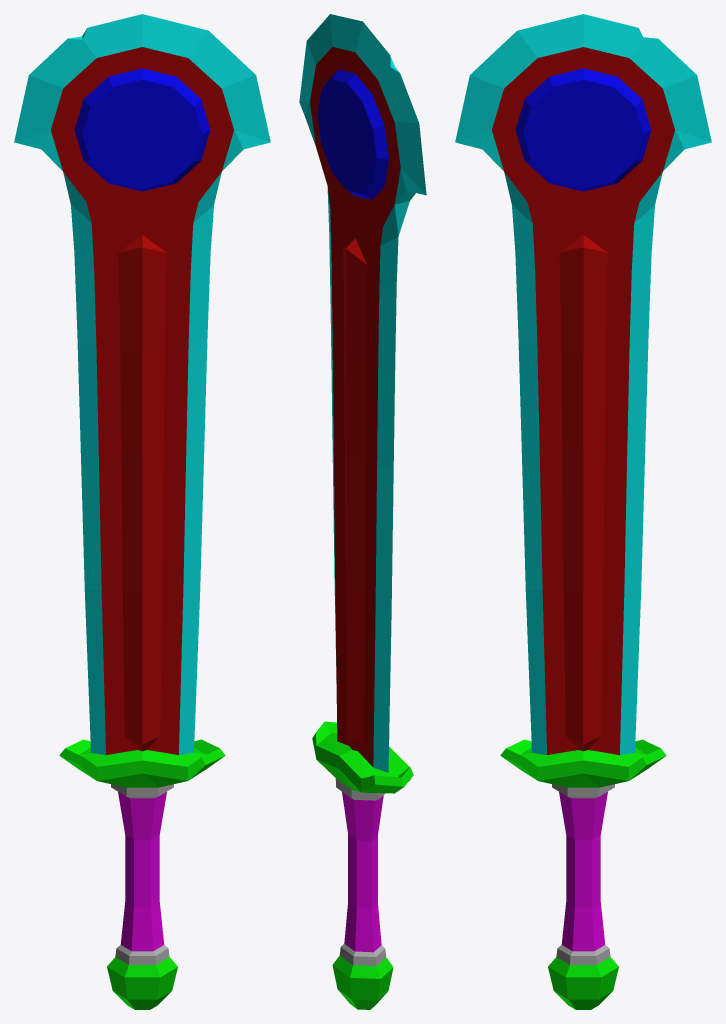
File: Greatsword_Legendary_Magistone.fbx
3 renders of one model, left to right at view 1: azimuth 90°, elevation 25°; view 2: azimuth 210°, elevation 25°; view 3: azimuth 270°, elevation 25°, orthographic.
Parts seen in each view (by area): view 1: SM_Wep_Greatsword_Round_01; view 2: SM_Wep_Greatsword_Round_01; view 3: SM_Wep_Greatsword_Round_01.
Boxes of the visible parts, x1,y1,x2,y2 form: SM_Wep_Greatsword_Round_01: (14,14,270,1009); SM_Wep_Greatsword_Round_01: (299,14,426,1009); SM_Wep_Greatsword_Round_01: (455,14,711,1009).
Size of the model in its own units: 0.0772 by 1.51 by 0.3537.
